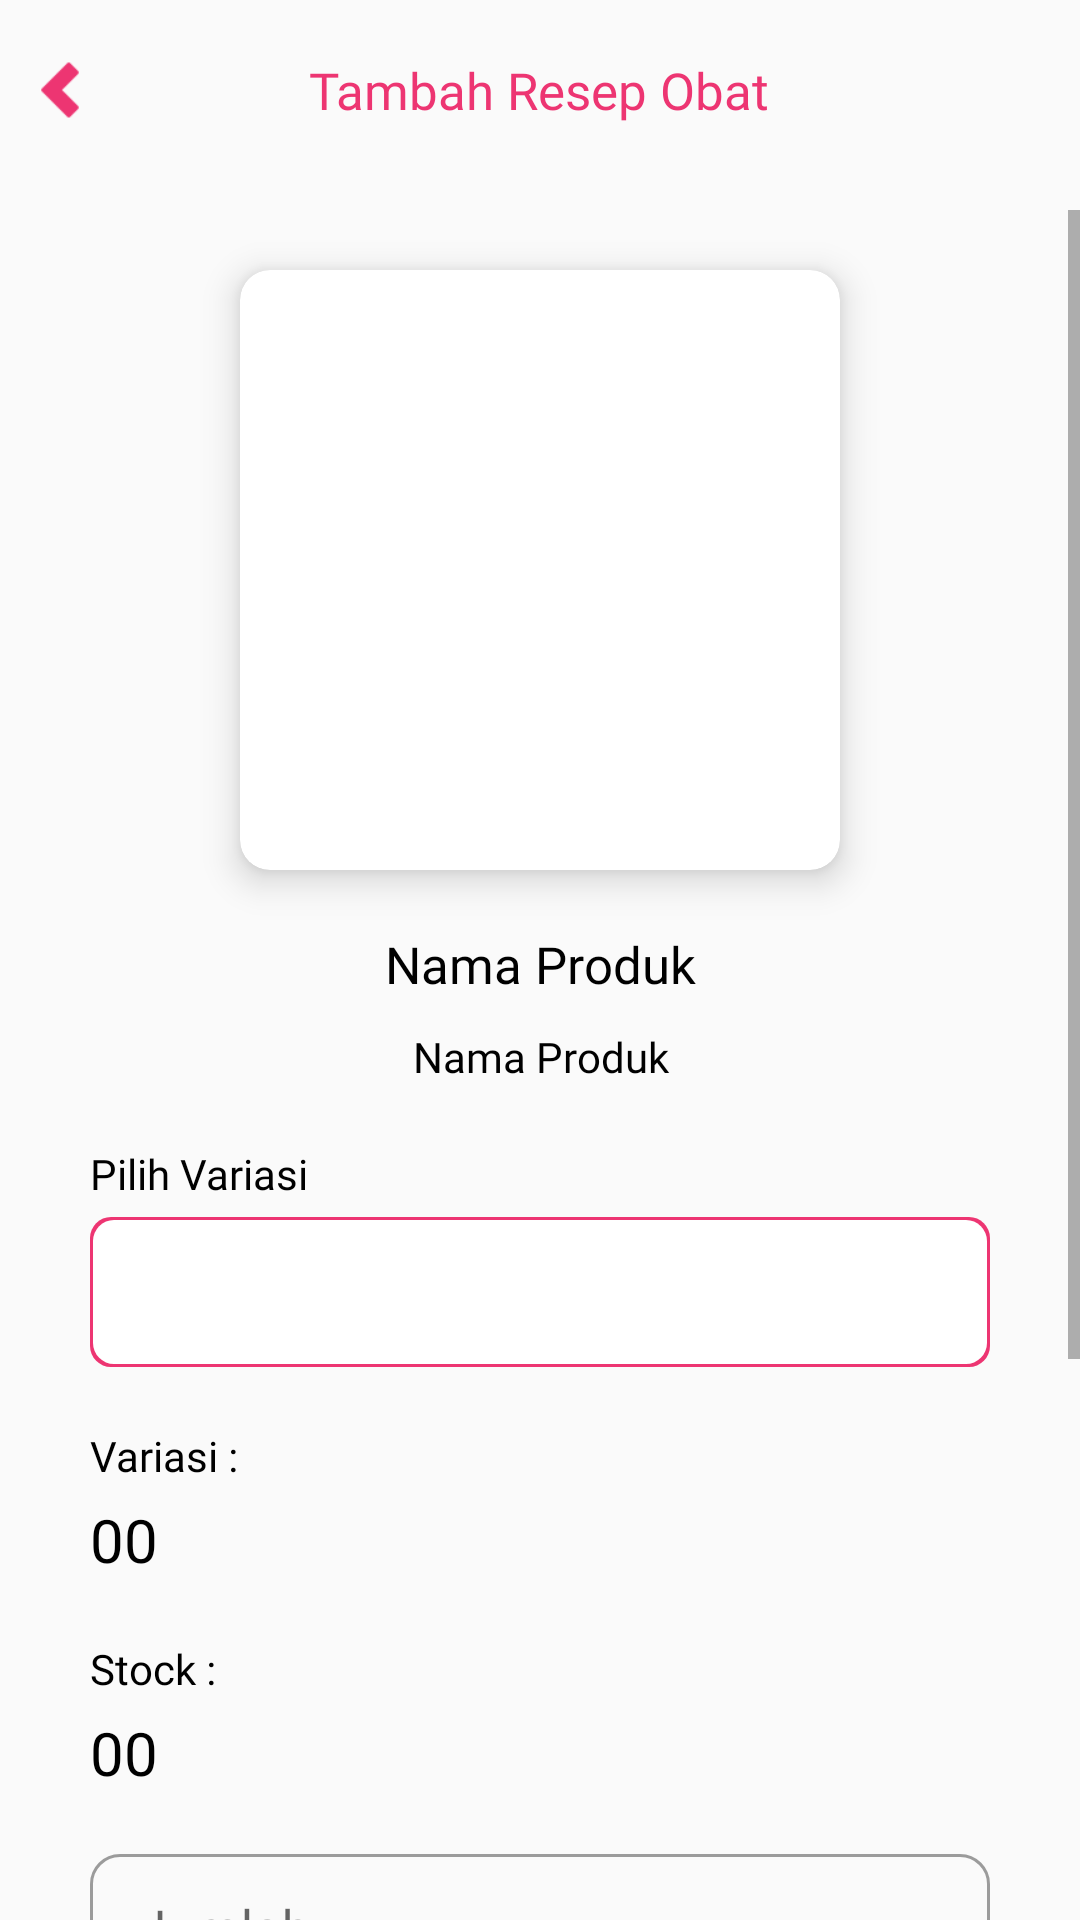

Where to tap for icons on this 1080w x 1920h app screen, as point (x, y):
arrow left: point (60, 90)
